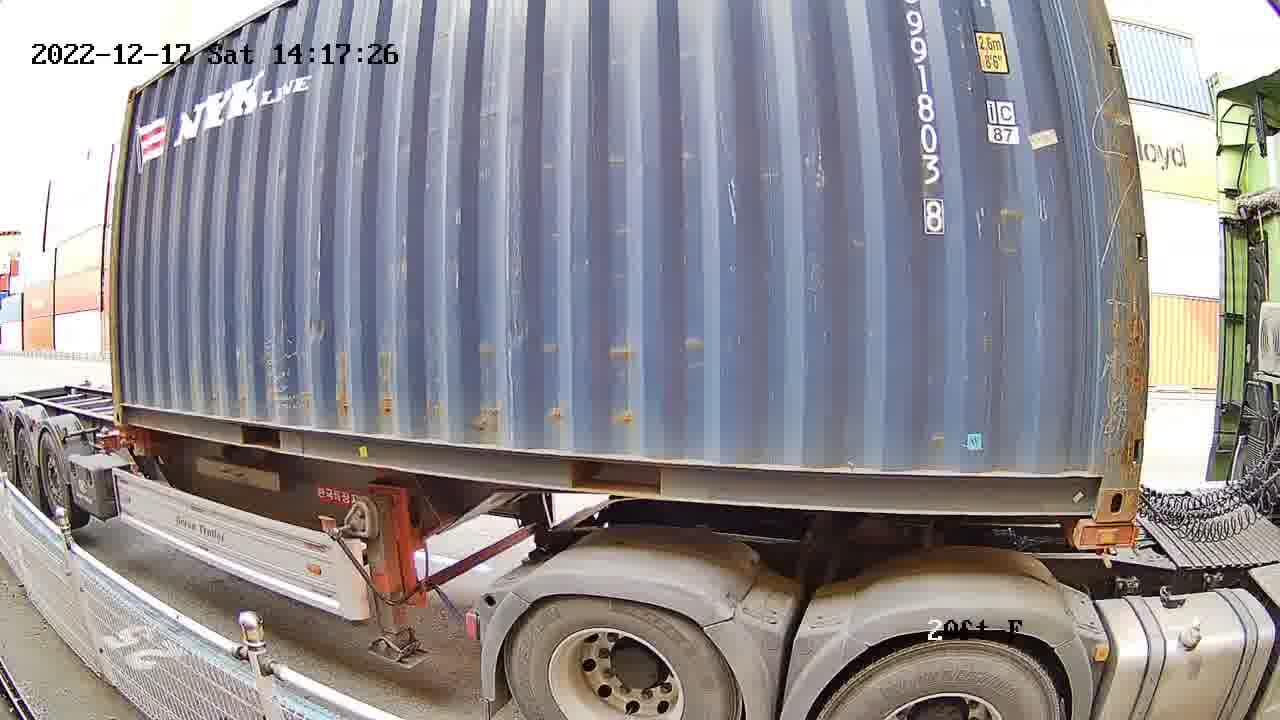Cone: (1075, 521, 1138, 562)
Hole_R: (1051, 439, 1141, 519)
Tire: (505, 596, 742, 719), (818, 640, 1059, 719)
